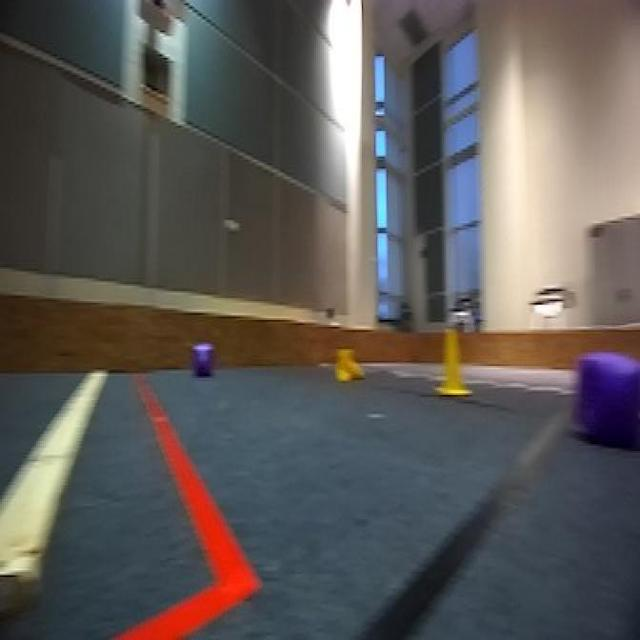frc_cone: (431, 324, 472, 398), (330, 344, 368, 385)
frc_cube: (577, 334, 640, 456), (192, 342, 215, 380)
